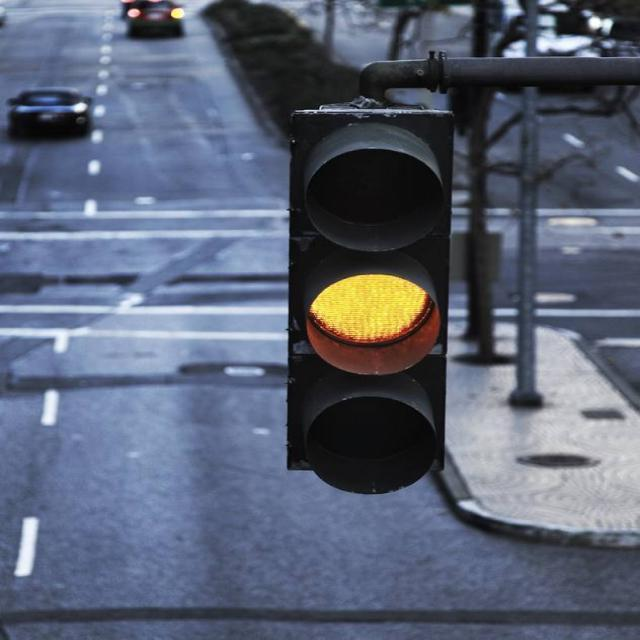yellow_light: (286, 99, 450, 489)
